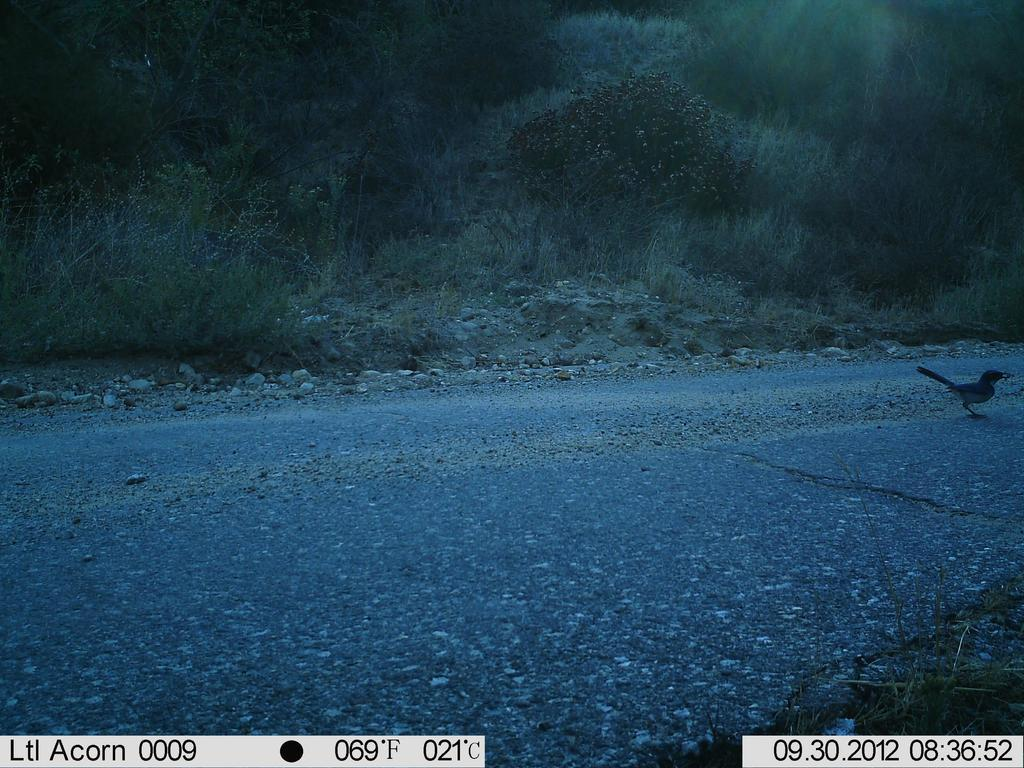bird: (913, 363, 1017, 423)
